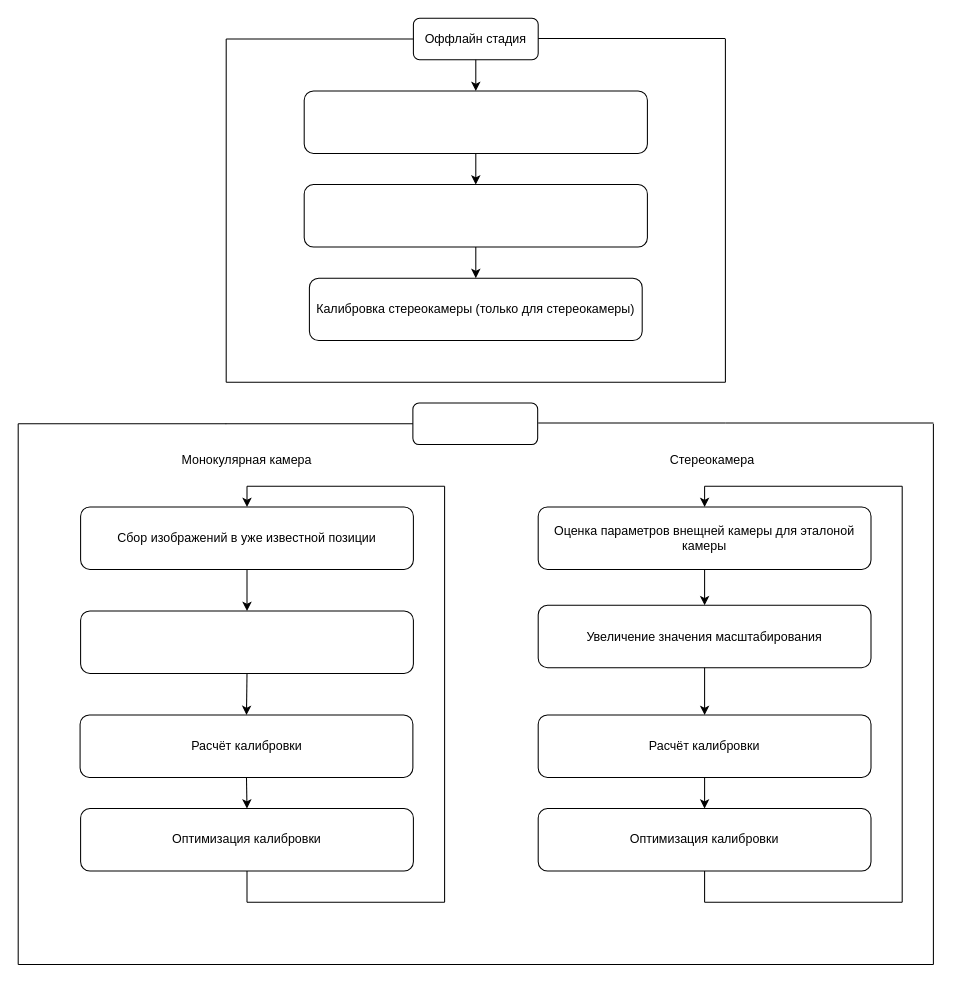
Some shapes in this 953 by 984 pixel diagram are drawn without their labels. Each missing label, with the centre of its shape:
Калибровка камеры для каждого увеличения масштабирования камеры: [475,121]
Обнаружение маркеров: [246,641]
Онлайн стадия: [475,423]
Подгонка сплайна третьего порядка для каждого изменения параметров: [475,215]
